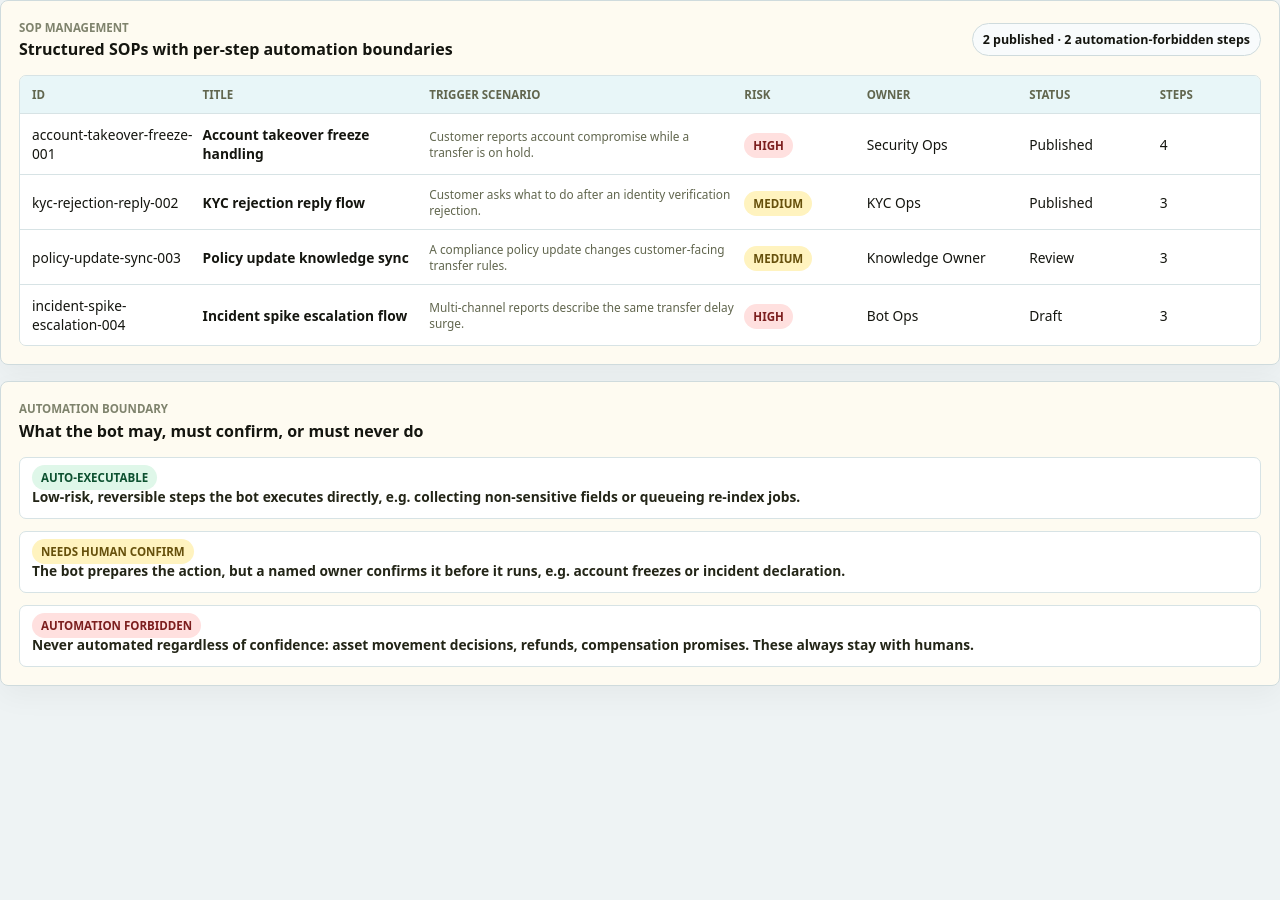
it: SopManagement › shows the step timeline with all three automation boundary badges in the drawer
Click the button "Account takeover freeze handling" at (640, 145), box [20,114,1260,176]
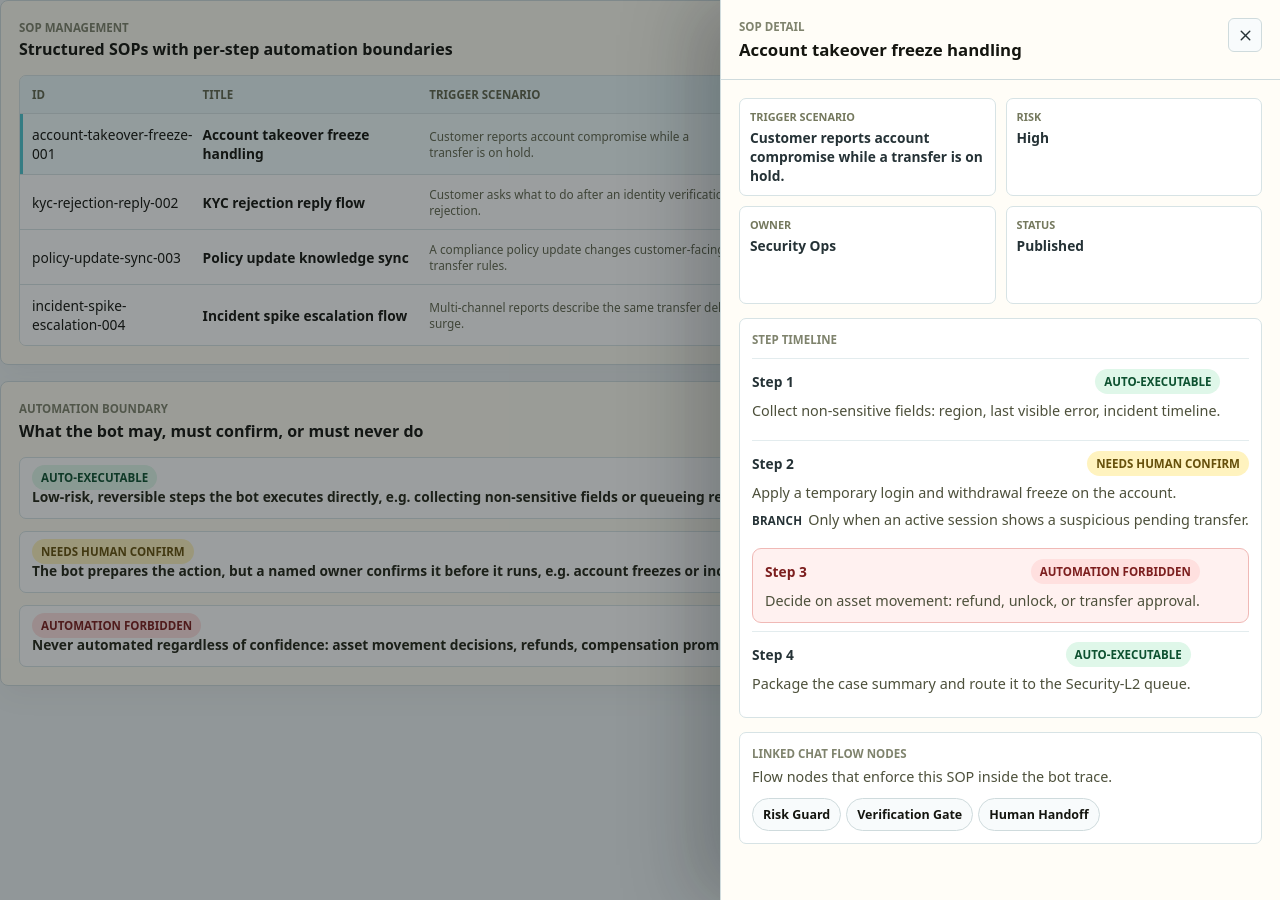
Result: the number of list items with test id "sop-step-auto" is 2 at [752,358,1249,432]; [752,631,1249,705]
Result: the number of list items with test id "sop-step-human_confirm" is 1 at [752,440,1249,540]
Result: the list item with test id "sop-step-forbidden" shows "Automation forbidden" at [1040,564,1191,580]
